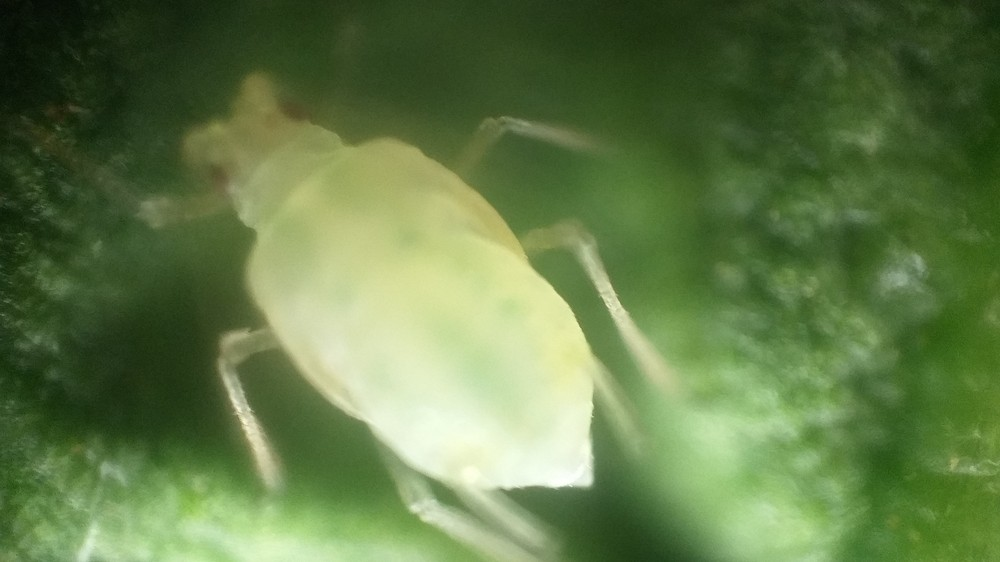Pulgon: (66, 25, 748, 555)
